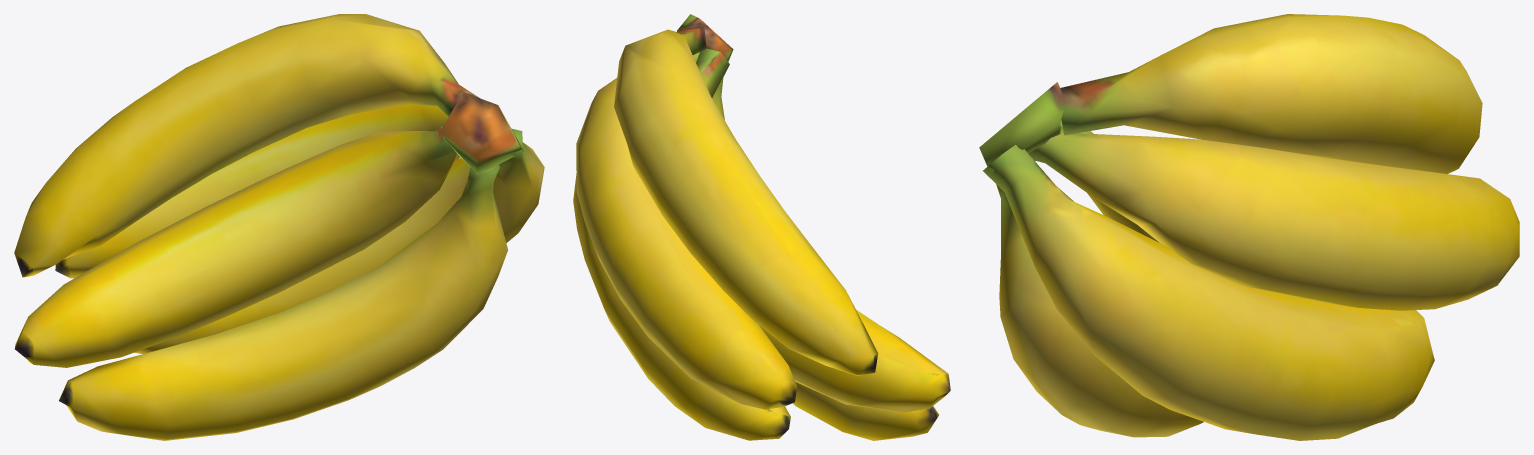
The model's file is ref_bananas.glb.
3 views of the same model, side by side, from view 1: azimuth 30°, elevation 25°; view 2: azimuth 150°, elevation 25°; view 3: azimuth 270°, elevation 25° (orthographic). The views are drawn at different scales.
Visible parts, largest first — view 1: ref_bananas_part0; view 2: ref_bananas_part0; view 3: ref_bananas_part0.
Part boxes in pixels (x1,y1,x2,y2): ref_bananas_part0: (14,14,544,440); ref_bananas_part0: (573,14,950,440); ref_bananas_part0: (979,14,1519,440).
Bounding box in the file's own units: 1 × 0.7615 × 0.7628.
Materials: 1 (1 with a texture image).
